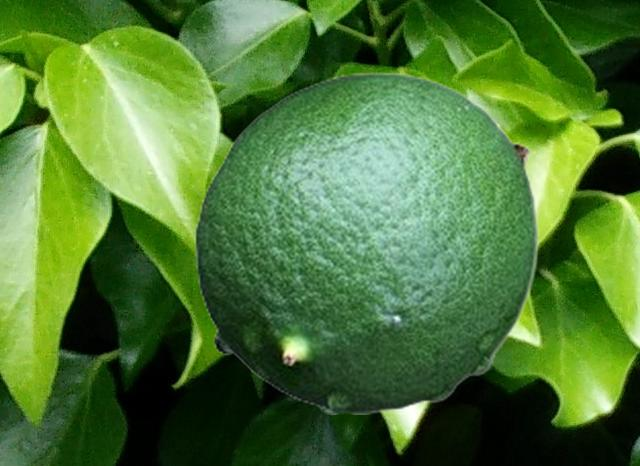calamansi: (194, 71, 538, 413)
